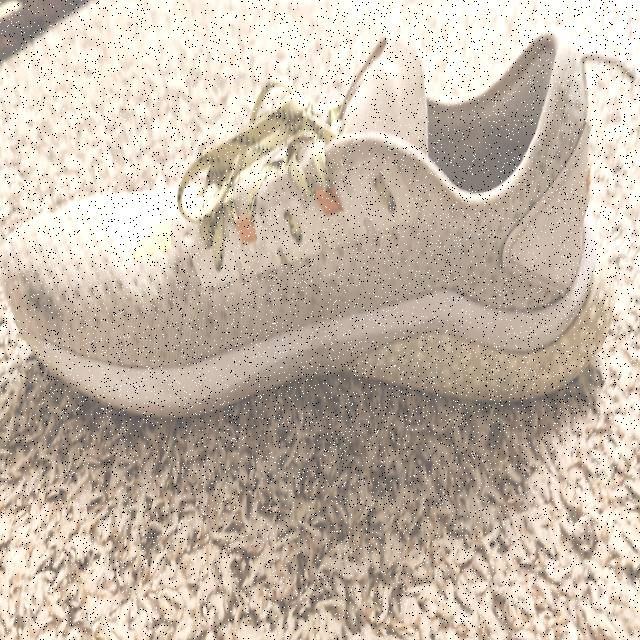white shoes: (0, 39, 606, 410)
